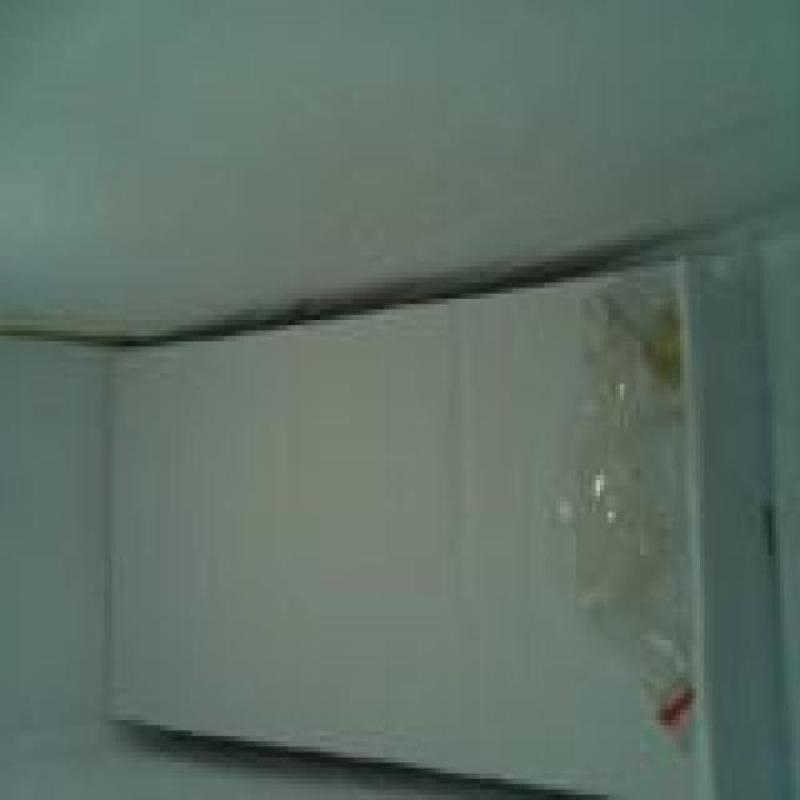botella: (556, 280, 704, 739)
